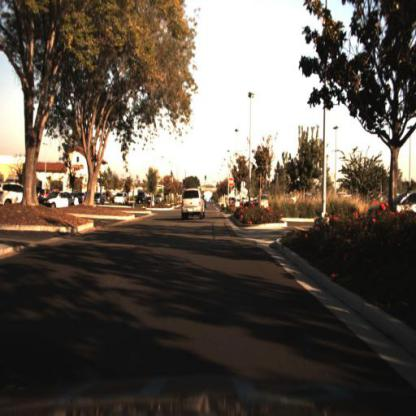car: (177, 186, 208, 228), (40, 189, 81, 214), (1, 180, 31, 207), (92, 188, 108, 206), (112, 191, 128, 209), (134, 187, 147, 207), (154, 190, 165, 208), (147, 191, 157, 207)
